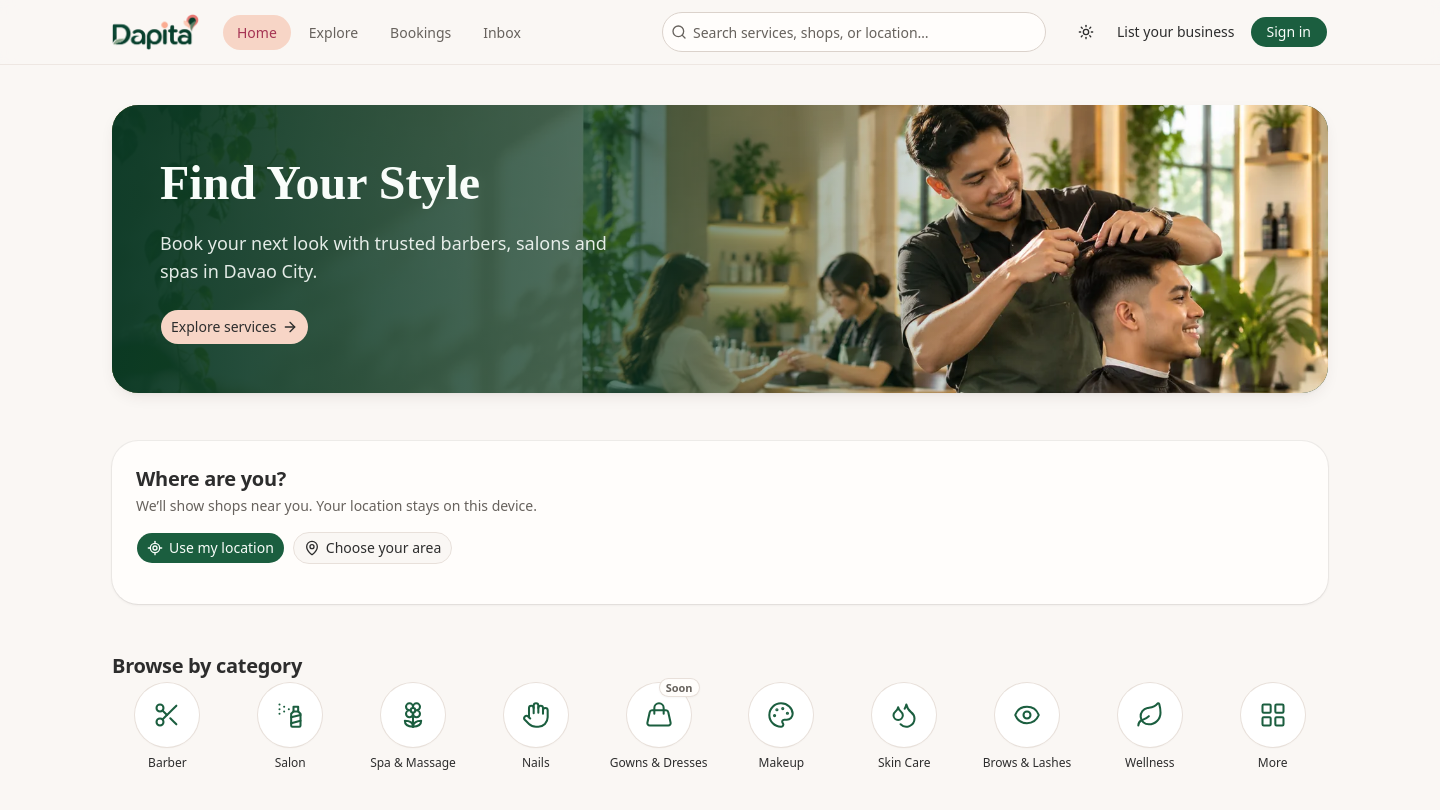
Test case: Home page, location first › choosing an area shows "Recommended near you" with tags
The width and height of the screenshot is (1440, 810).
Click the button "Choose your area" at (373, 548), box [293, 532, 452, 564]
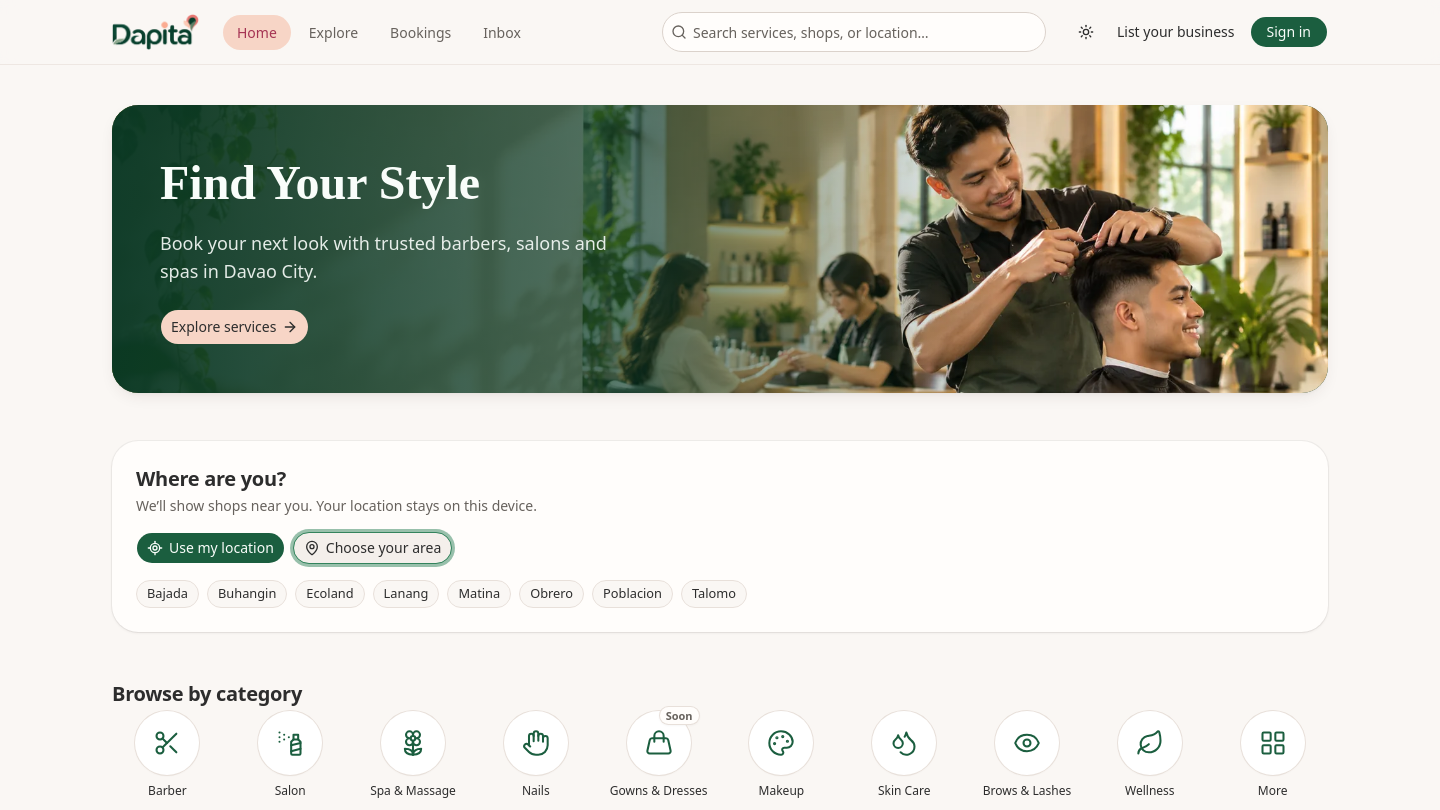
Click the button "Bajada" at (168, 594), box [136, 580, 199, 608]
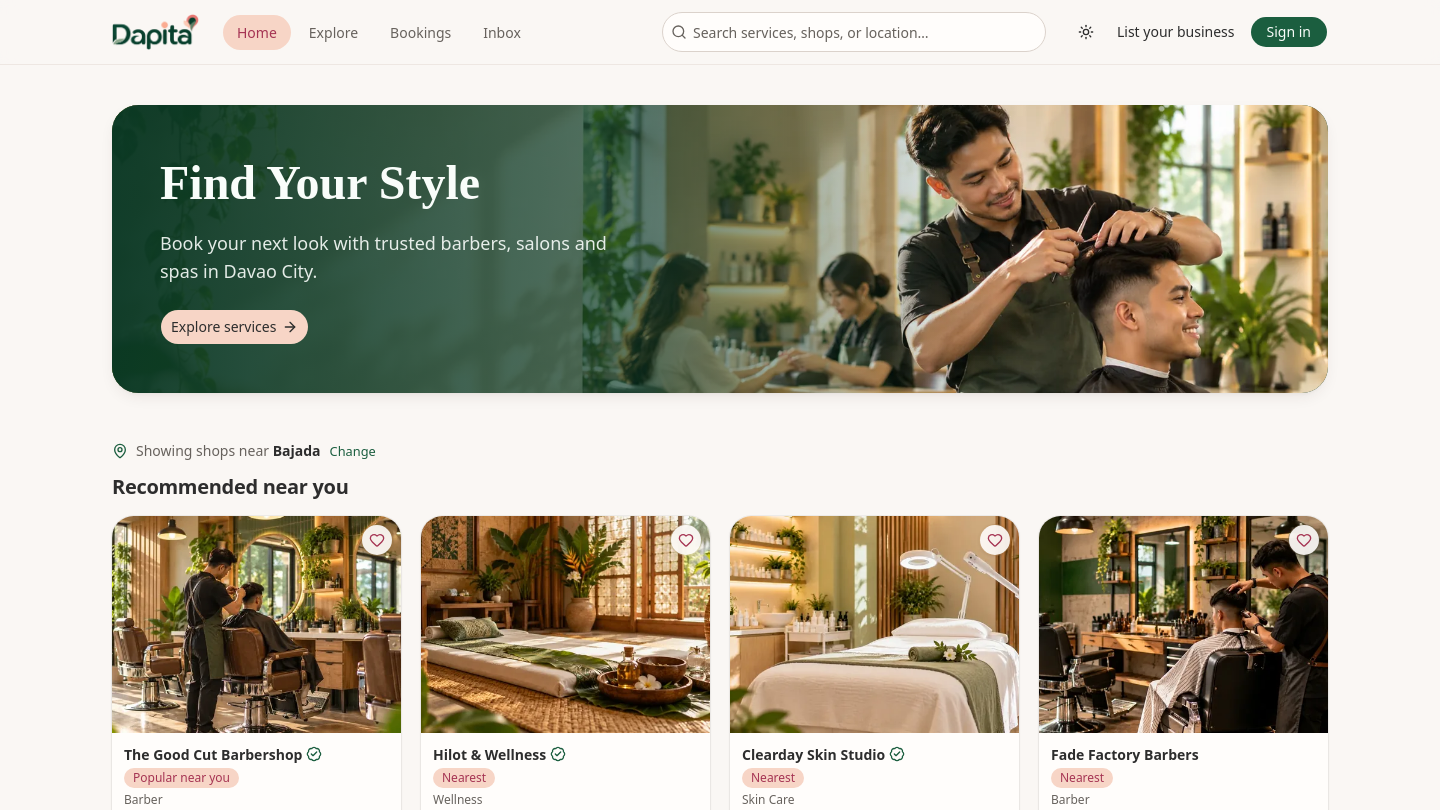
Expected: the text "Popular near you" is shown, [124, 768, 239, 788]
Expected: the heading "Where are you?" is gone
Expected: the element showing "Showing shops near Bajada" is shown, [136, 441, 321, 461]
